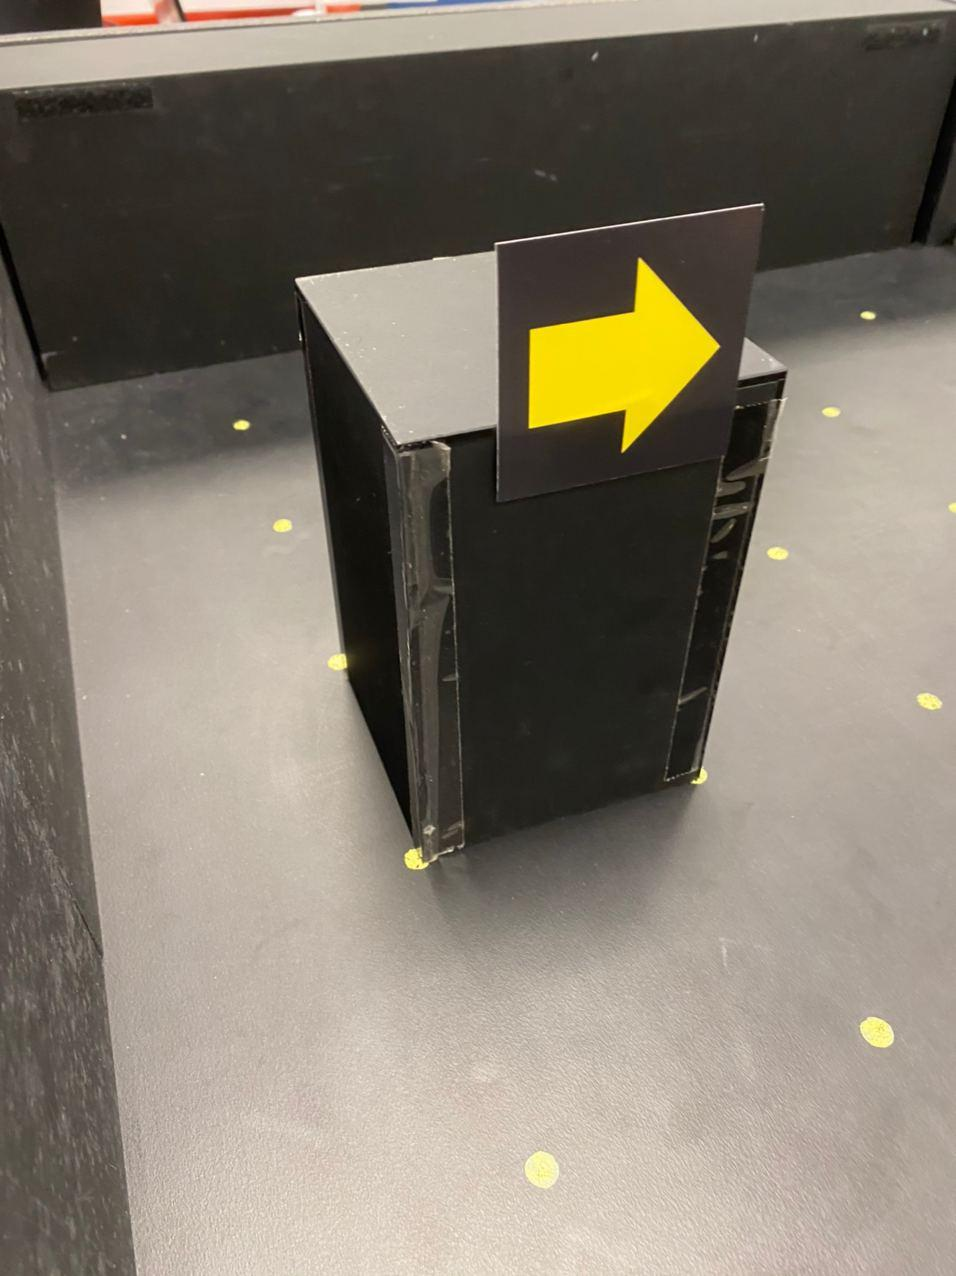right: (525, 255, 724, 452)
